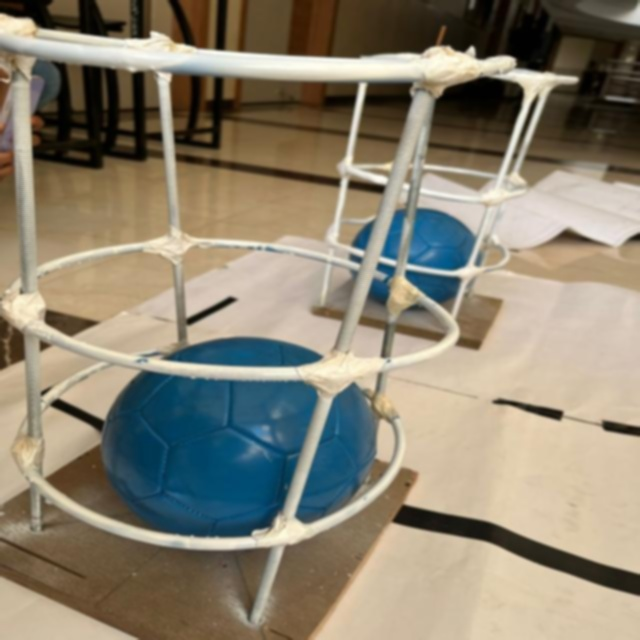blue_ball: (101, 337, 386, 550), (354, 205, 472, 306)
silo: (0, 9, 514, 640), (324, 46, 562, 332)
